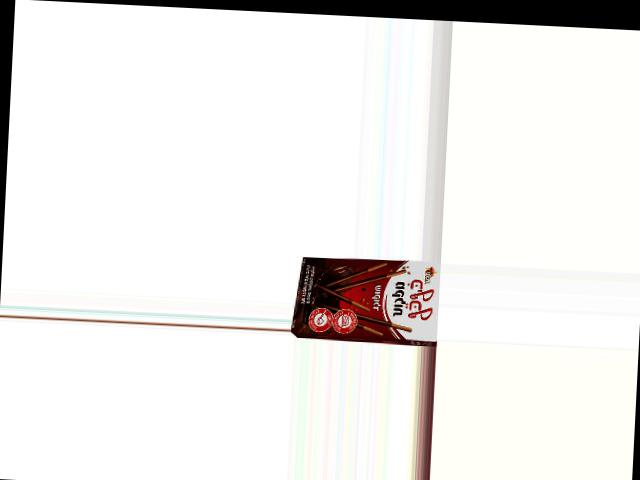chocolate: (300, 254, 440, 345)
